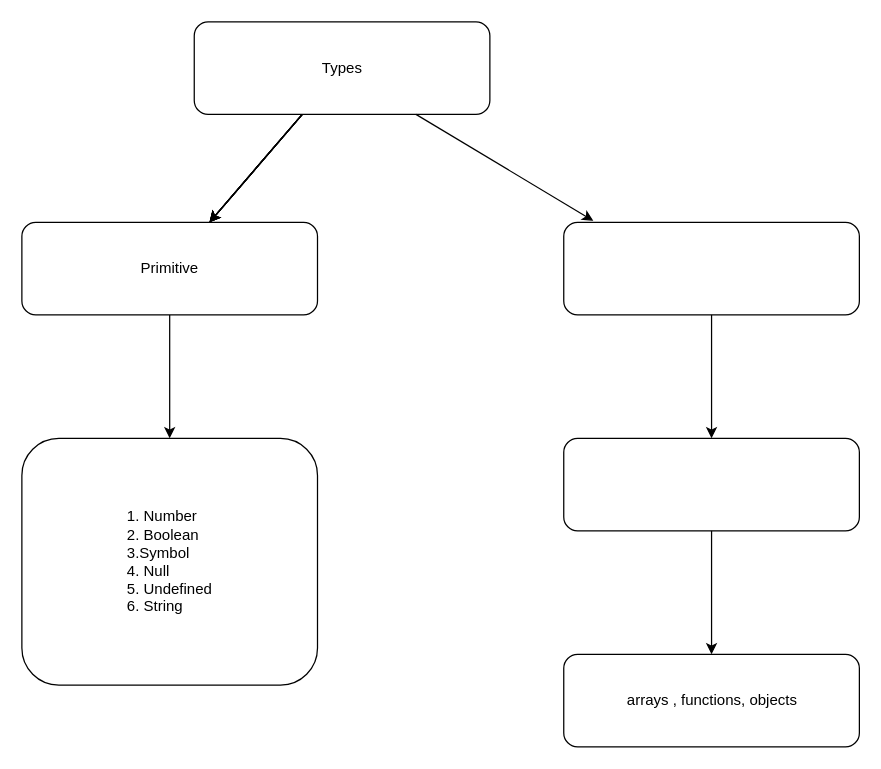
Some shapes in this 881 by 769 pixel diagram are drawn without their labels. The shapes that lost their labels are listed below. From the top down, each one's box as (x1, y1, x2, y2) in pixels, then its label:
(562, 221, 859, 315): Non - Primiitve
(562, 437, 859, 531): Objects
